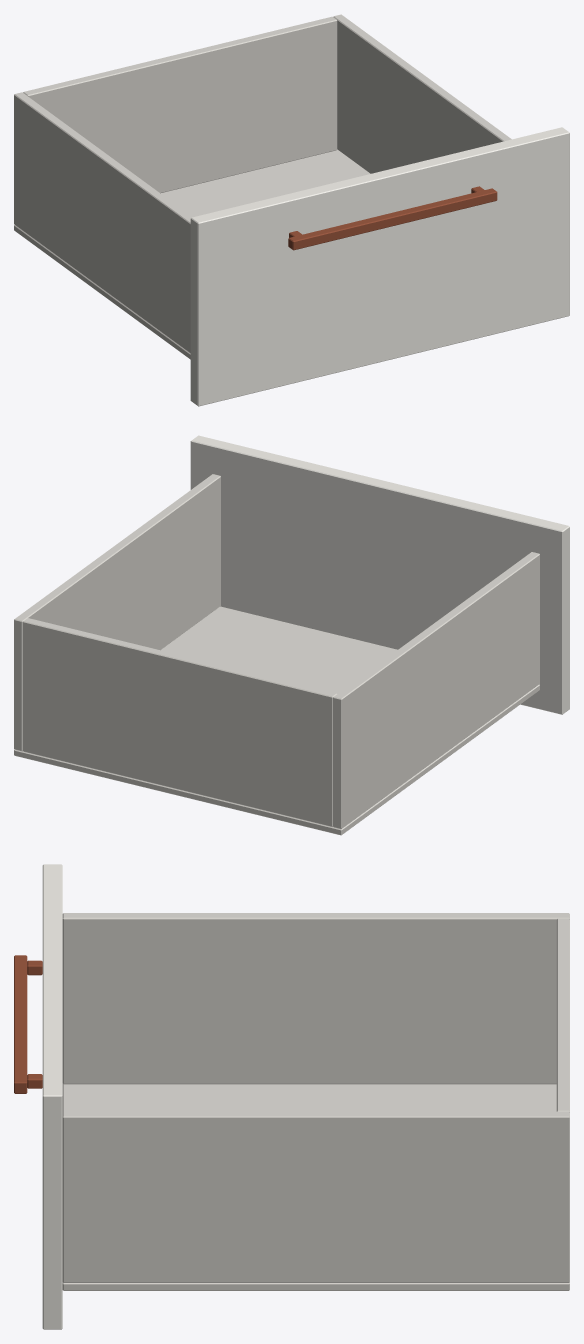
The model's file is l_kitchen_short_return_b3_middle_drawer.glb.
The picture shows the model from 3 angles, top to bottom: view 1: azimuth 30°, elevation 25°; view 2: azimuth 150°, elevation 25°; view 3: azimuth 270°, elevation 25°; orthographic projection. The views are drawn at different scales.
Visible parts, largest first — view 1: l_kitchen_short_return_b3_middle_drawer; view 2: l_kitchen_short_return_b3_middle_drawer; view 3: l_kitchen_short_return_b3_middle_drawer.
Boxes of the visible parts, x1,y1,x2,y2 form: l_kitchen_short_return_b3_middle_drawer: (14,14,569,406); l_kitchen_short_return_b3_middle_drawer: (14,435,569,835); l_kitchen_short_return_b3_middle_drawer: (14,864,569,1329).
Bounding box in the file's own units: 0.497 × 0.2346 × 0.504.
